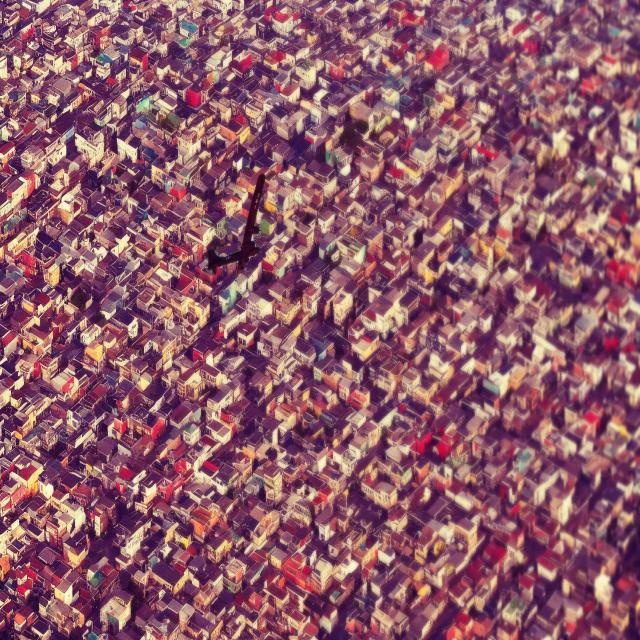airplane: (207, 173, 265, 270)
